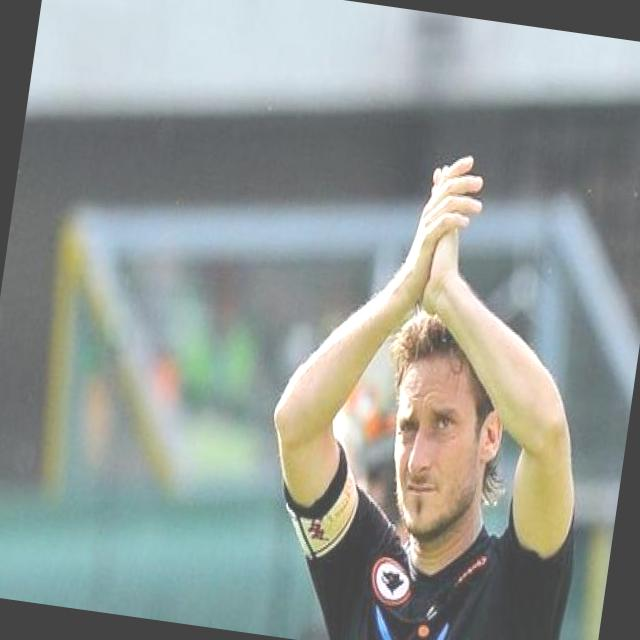no_vest: (281, 465, 596, 640)
